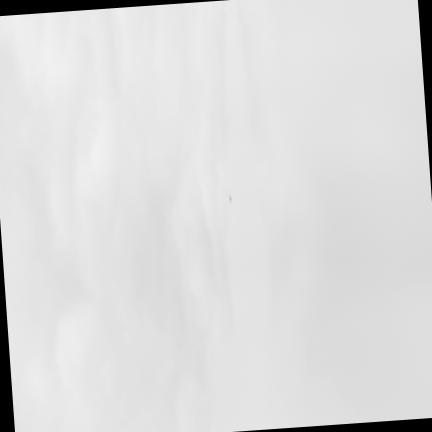Shahed: (228, 192, 231, 203)
